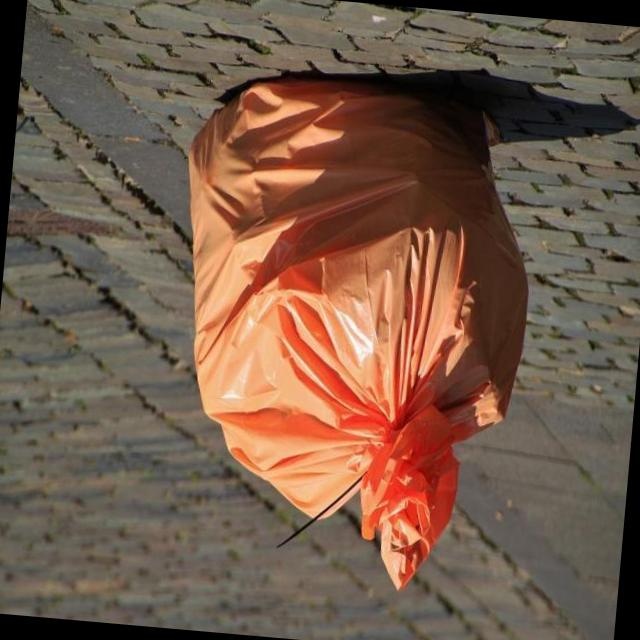KantongPlastik: (150, 67, 548, 602)
